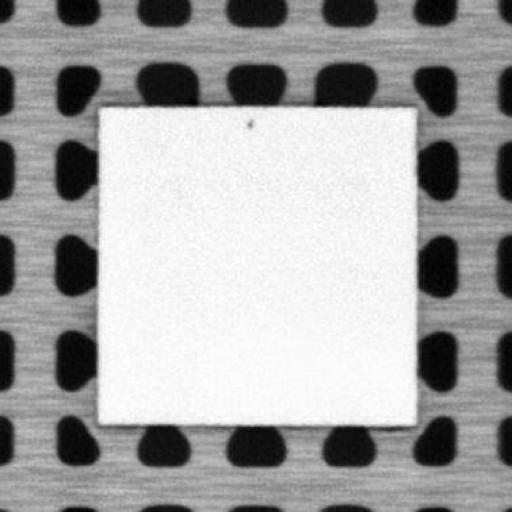DIE_INK: (242, 116, 254, 127)
